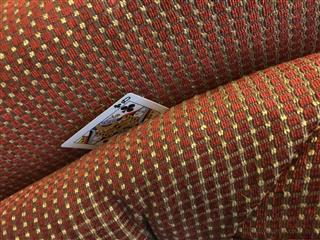QueenOfClubs: (59, 91, 170, 149)
